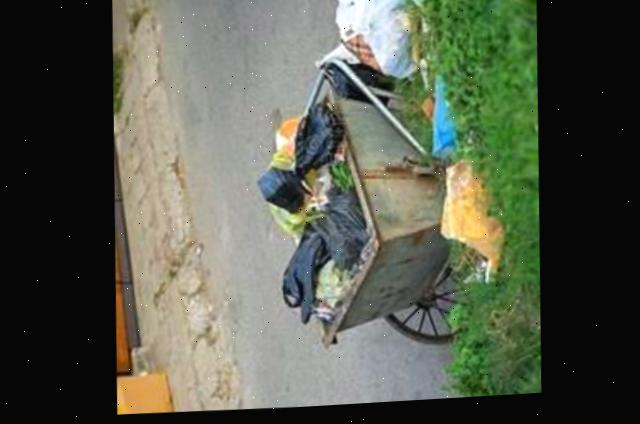Garbage: (254, 93, 371, 343)
Plastic_Bag: (281, 192, 367, 325), (257, 106, 341, 216)
